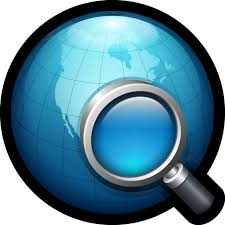searchIcon: (75, 75, 218, 220)
